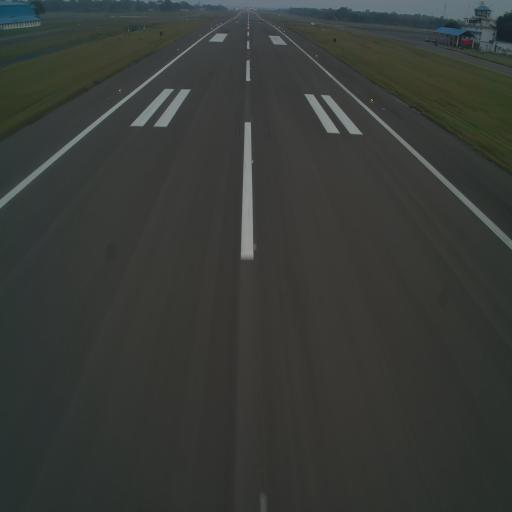off: (250, 116, 254, 123), (248, 93, 252, 99)
on: (369, 94, 375, 106), (252, 242, 258, 252), (250, 156, 255, 164), (118, 85, 122, 94)
